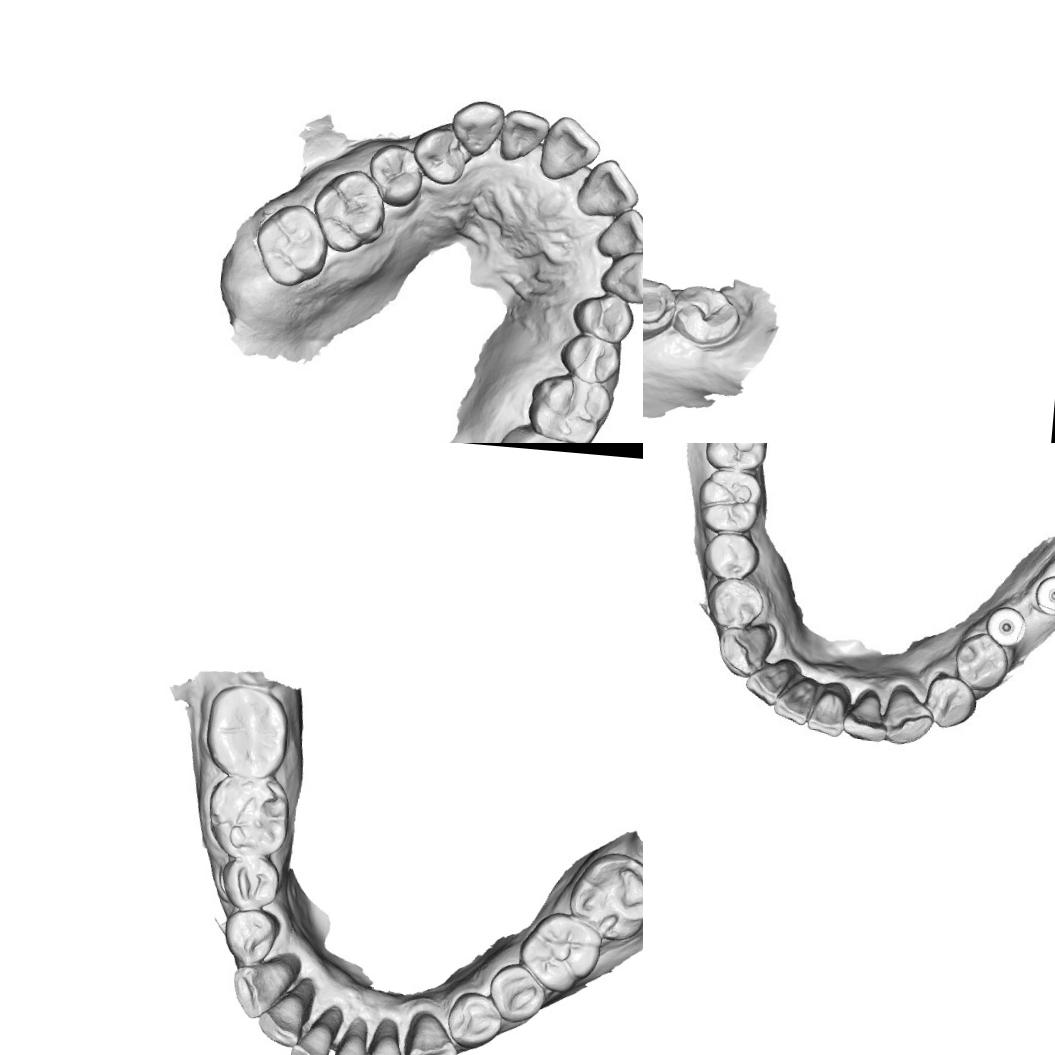canine: (229, 952, 299, 1022), (882, 680, 934, 748), (711, 622, 773, 678), (449, 97, 504, 158), (401, 1006, 461, 1055), (597, 246, 643, 305)
implant: (990, 606, 1028, 646), (1037, 574, 1055, 614)
incisor: (573, 155, 643, 217), (539, 118, 596, 182), (252, 992, 304, 1050), (593, 203, 643, 259), (501, 106, 549, 162), (745, 658, 795, 706), (848, 686, 889, 734), (807, 685, 848, 732), (778, 674, 818, 721), (286, 1020, 332, 1055), (362, 1023, 412, 1055), (322, 1023, 371, 1055)
molar: (200, 680, 293, 778), (201, 768, 295, 860), (514, 906, 606, 995), (563, 848, 643, 945), (250, 202, 328, 289), (311, 168, 387, 255), (524, 370, 613, 443), (669, 282, 742, 352), (697, 464, 766, 532), (643, 270, 678, 353), (489, 420, 579, 443), (699, 443, 764, 471)
premolar: (487, 958, 550, 1026), (566, 288, 638, 346), (557, 331, 625, 389), (217, 852, 281, 912), (413, 122, 469, 188), (444, 988, 503, 1050), (370, 141, 426, 206), (220, 906, 280, 966), (954, 632, 1008, 690), (709, 576, 763, 632), (704, 529, 762, 580), (927, 677, 975, 723)
